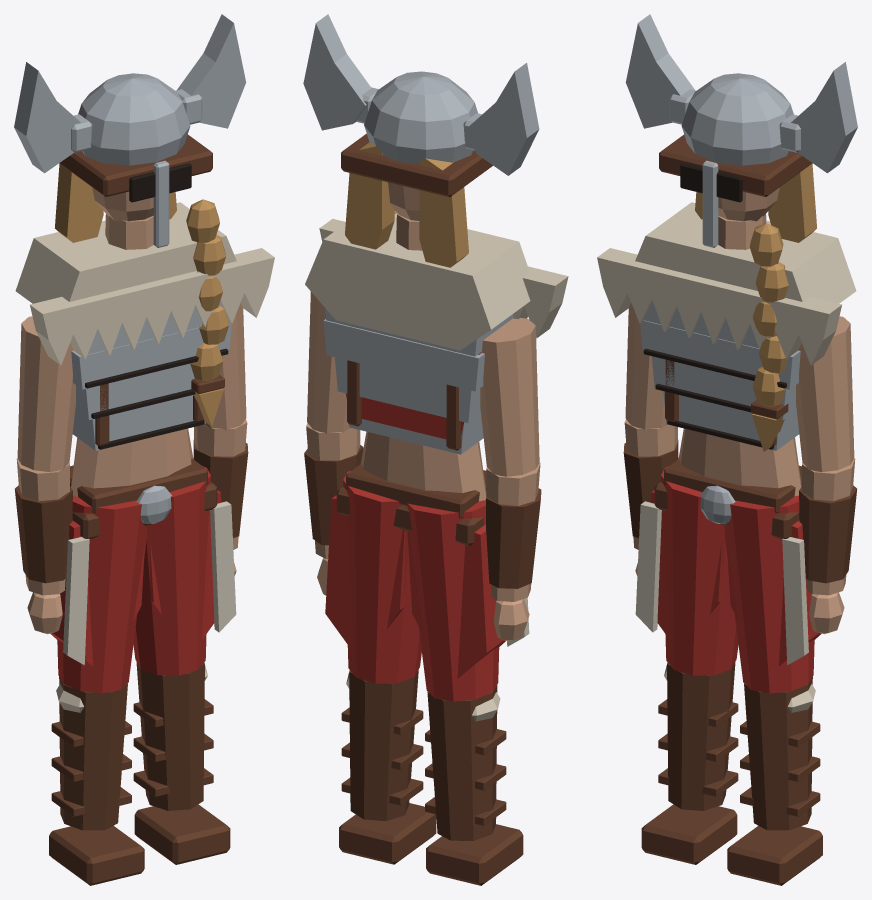
File: viking-body.glb
3 renders of one model, left to right at view 1: azimuth 30°, elevation 25°; view 2: azimuth 150°, elevation 25°; view 3: azimuth 330°, elevation 25°, orthographic.
Visible parts, largest first — view 1: Thigh_L, Thigh_R, Fur_Mantle_Base, Helmet_Dome, Shin_L, Shin_R, UpperArm_R, Exposed_Midriff, Boot_R, Boot_L, Helmet_Wing_R, Bracer_R (+48 smaller); view 2: Fur_Mantle_Base, Thigh_L, Thigh_R, UpperArm_R, Shin_L, Helmet_Dome, Shin_R, Lamellar_Band_02, Exposed_Midriff, Helmet_Wing_R, Red_Skirt_L, Helmet_Wing_L (+25 smaller); view 3: Thigh_R, Thigh_L, Fur_Mantle_Base, Helmet_Dome, Shin_R, Shin_L, UpperArm_L, Exposed_Midriff, Boot_L, Boot_R, Helmet_Wing_L, Bracer_L (+47 smaller).
Boxes of the visible parts, x1,y1,x2,y2 form: Thigh_L: (133,458,210,675); Thigh_R: (57,496,147,693); Fur_Mantle_Base: (15,202,236,303); Helmet_Dome: (78,73,190,165); Shin_L: (136,662,204,810); Shin_R: (59,676,127,830); UpperArm_R: (17,316,75,471); Exposed_Midriff: (71,428,193,496); Boot_R: (49,826,144,885); Boot_L: (134,804,230,864); Helmet_Wing_R: (176,14,246,128); Bracer_R: (14,485,72,583); Fur_Mantle_Base: (305,213,530,350); Thigh_L: (343,463,421,683); Thigh_R: (407,500,499,701); UpperArm_R: (480,317,539,476); Shin_L: (349,669,418,821); Helmet_Dome: (364,71,477,164); Shin_R: (427,685,497,840); Lamellar_Band_02: (323,319,484,391); Exposed_Midriff: (361,431,486,501); Helmet_Wing_R: (303,14,371,130); Red_Skirt_L: (407,525,505,678); Helmet_Wing_L: (465,63,539,175); Thigh_R: (661,458,738,675); Thigh_L: (724,495,814,693); Fur_Mantle_Base: (635,202,856,303); Helmet_Dome: (681,73,793,165); Shin_R: (667,662,735,810); Shin_L: (744,676,812,830); UpperArm_L: (796,316,854,471); Exposed_Midriff: (678,428,801,496); Boot_L: (727,826,822,885); Boot_R: (641,804,737,864); Helmet_Wing_L: (625,14,695,128); Bracer_L: (799,485,857,583).
Size of the model in its own units: 34.96 by 116 by 15.55.
